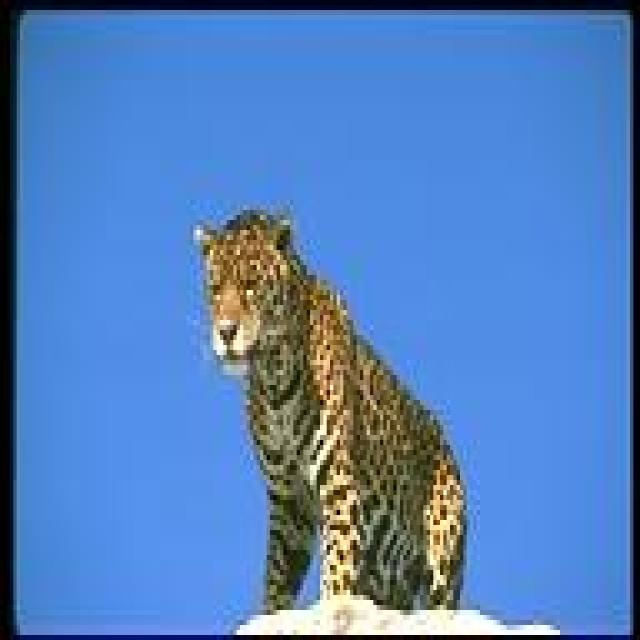Leopard: (190, 202, 471, 604)
